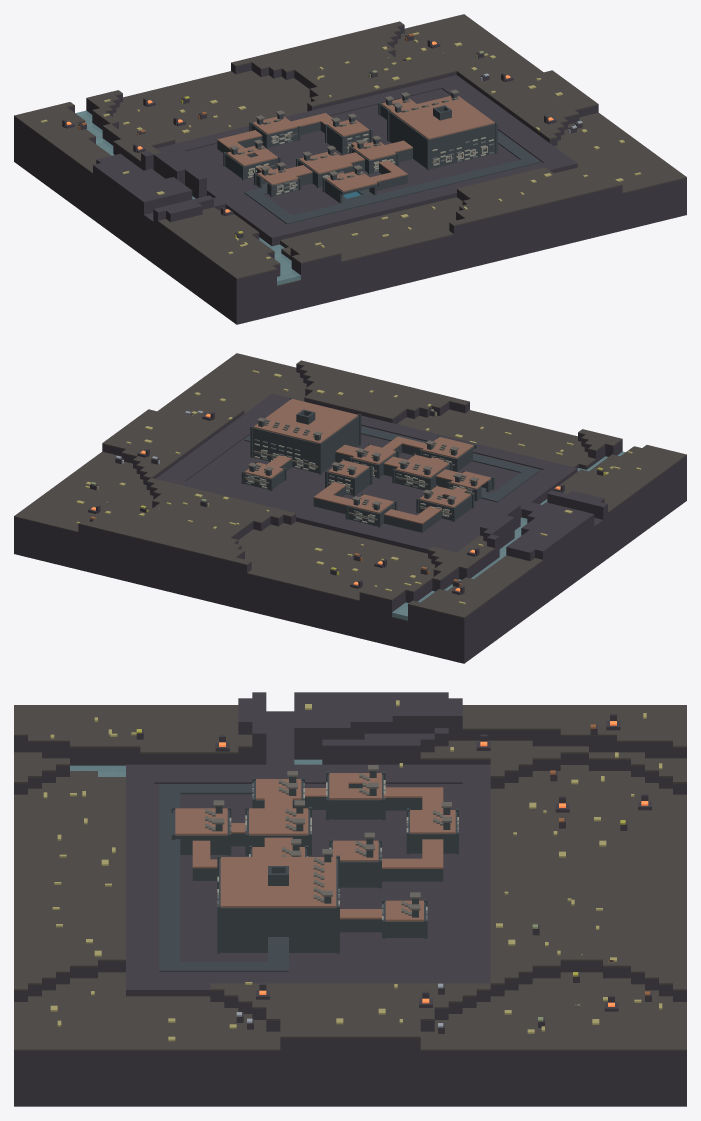
File: thermal.glb
The picture shows the model from 3 angles, top to bottom: view 1: azimuth 30°, elevation 25°; view 2: azimuth 150°, elevation 25°; view 3: azimuth 270°, elevation 25°; orthographic projection. The views are drawn at different scales.
Parts seen in each view (by area): view 1: thermal/surface, thermal/terrain, thermal/thermal_dungeon/room_walls, thermal/thermal_dungeon/floor_mesh, thermal/thermal_dungeon/roof_arena, thermal/thermal_dungeon/exterior_details, thermal/outcrops, thermal/thermal_dungeon/corridor_walls, thermal/watercourses, thermal/vegetation, thermal/thermal_dungeon/roof_workshop, thermal/thermal_dungeon/roof_cistern (+5 smaller); view 2: thermal/surface, thermal/terrain, thermal/thermal_dungeon/room_walls, thermal/thermal_dungeon/exterior_details, thermal/thermal_dungeon/roof_arena, thermal/thermal_dungeon/corridor_walls, thermal/thermal_dungeon/floor_mesh, thermal/outcrops, thermal/vegetation, thermal/watercourses, thermal/thermal_dungeon/roof_workshop, thermal/thermal_dungeon/roof_cistern (+4 smaller); view 3: thermal/surface, thermal/terrain, thermal/thermal_dungeon/room_walls, thermal/thermal_dungeon/floor_mesh, thermal/thermal_dungeon/roof_arena, thermal/outcrops, thermal/thermal_dungeon/corridor_walls, thermal/thermal_dungeon/exterior_details, thermal/vegetation, thermal/thermal_dungeon/roof_workshop, thermal/thermal_dungeon/roof_cistern, thermal/thermal_dungeon/roof_production (+7 smaller).
Boxes of the visible parts, x1,y1,x2,y2 form: thermal/surface: (14,14,686,286); thermal/terrain: (14,26,686,324); thermal/thermal_dungeon/room_walls: (225,104,495,203); thermal/thermal_dungeon/floor_mesh: (244,131,540,224); thermal/thermal_dungeon/roof_arena: (390,89,494,139); thermal/thermal_dungeon/exterior_details: (223,93,497,197); thermal/outcrops: (62,33,582,238); thermal/thermal_dungeon/corridor_walls: (217,122,412,190); thermal/watercourses: (75,110,300,285); thermal/vegetation: (40,32,641,259); thermal/thermal_dungeon/roof_workshop: (299,145,352,173); thermal/thermal_dungeon/roof_cistern: (325,165,377,191); thermal/surface: (14,353,686,621); thermal/terrain: (14,365,686,663); thermal/thermal_dungeon/room_walls: (244,416,492,526); thermal/thermal_dungeon/exterior_details: (241,397,494,527); thermal/thermal_dungeon/roof_arena: (253,398,358,443); thermal/thermal_dungeon/corridor_walls: (280,444,466,532); thermal/thermal_dungeon/floor_mesh: (244,426,540,519); thermal/outcrops: (88,409,605,594); thermal/vegetation: (76,370,641,604); thermal/watercourses: (392,451,625,620); thermal/thermal_dungeon/roof_workshop: (395,454,449,477); thermal/thermal_dungeon/roof_cistern: (422,437,473,458); thermal/surface: (14,692,686,1050); thermal/terrain: (14,717,686,1106); thermal/thermal_dungeon/room_walls: (173,774,457,952); thermal/thermal_dungeon/floor_mesh: (159,784,381,971); thermal/thermal_dungeon/roof_arena: (220,849,336,907); thermal/outcrops: (136,714,651,1033); thermal/thermal_dungeon/corridor_walls: (192,797,443,931); thermal/thermal_dungeon/exterior_details: (171,771,458,953); thermal/vegetation: (43,700,662,1041); thermal/thermal_dungeon/roof_workshop: (249,800,308,835); thermal/thermal_dungeon/roof_cistern: (175,800,227,835); thermal/thermal_dungeon/roof_production: (329,765,381,799).
Bounding box in the file's own units: 224 × 38 × 192.
